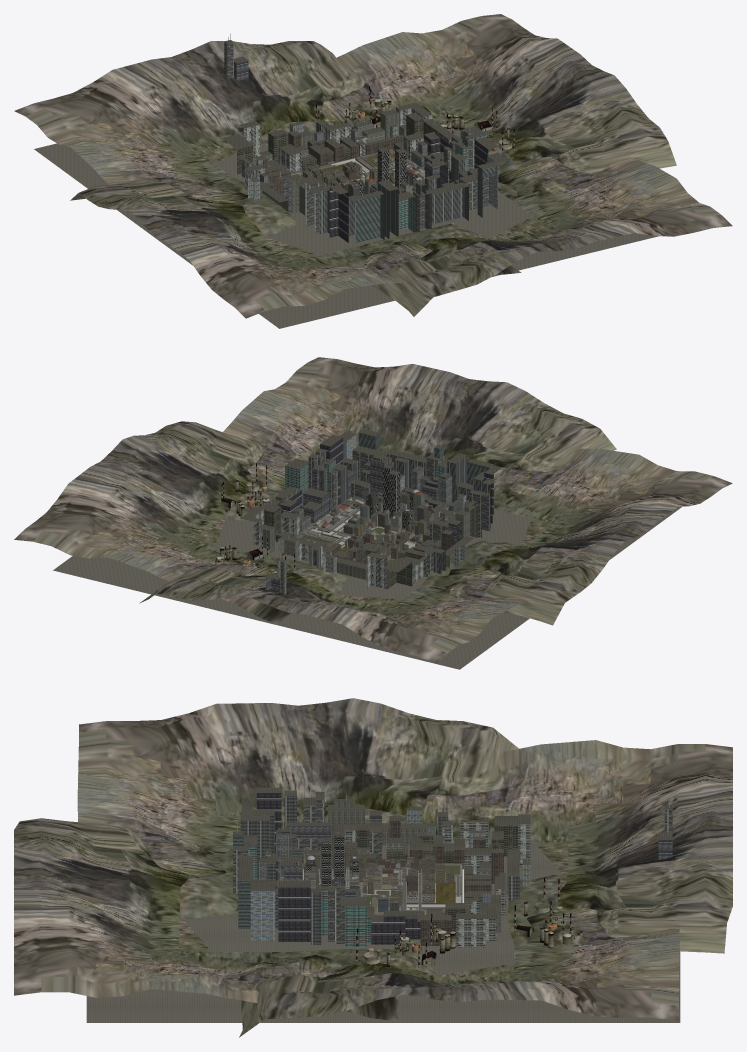
The model's file is gm_bigcity-compressed-cân bằng-compressed.glb.
The picture shows the model from 3 angles, top to bottom: view 1: azimuth 30°, elevation 25°; view 2: azimuth 150°, elevation 25°; view 3: azimuth 270°, elevation 25°; orthographic projection. The views are drawn at different scales.
Visible parts, largest first — view 1: Object_104, Object_97, Object_105, Object_86, Object_82, Object_79, Object_76, Object_80, Object_101, Object_83, Object_81, Object_77 (+3 smaller); view 2: Object_104, Object_97, Object_105, Object_86, Object_82, Object_79, Object_85, Object_101, Object_77, Object_35, Object_76, Object_80 (+4 smaller); view 3: Object_104, Object_97, Object_105, Object_80, Object_79, Object_101, Object_86, Object_82, Object_83, Object_78, Object_81, Object_87 (+6 smaller).
Part boxes in pixels (box(x1,y1,x2,y2)): Object_104: box(14, 14, 732, 318); Object_97: box(34, 128, 658, 328); Object_105: box(222, 40, 508, 203); Object_86: box(245, 122, 477, 238); Object_82: box(224, 42, 488, 232); Object_79: box(241, 107, 432, 186); Object_76: box(260, 137, 495, 242); Object_80: box(329, 135, 488, 242); Object_101: box(316, 86, 514, 153); Object_83: box(262, 121, 434, 196); Object_81: box(237, 115, 423, 190); Object_77: box(260, 113, 398, 215); Object_104: box(14, 357, 732, 663); Object_97: box(53, 496, 681, 669); Object_105: box(240, 429, 501, 579); Object_86: box(309, 450, 490, 574); Object_82: box(275, 450, 490, 594); Object_79: box(253, 509, 448, 589); Object_85: box(265, 458, 461, 591); Object_101: box(215, 463, 295, 573); Object_77: box(262, 502, 478, 579); Object_35: box(365, 466, 421, 530); Object_76: box(329, 432, 489, 574); Object_80: box(279, 437, 493, 523); Object_104: box(14, 698, 732, 1037); Object_97: box(86, 842, 680, 1022); Object_105: box(233, 787, 672, 921); Object_80: box(256, 793, 420, 944); Object_79: box(343, 822, 530, 947); Object_101: box(356, 878, 582, 967); Object_86: box(240, 796, 519, 944); Object_82: box(233, 800, 672, 943); Object_83: box(389, 821, 503, 945); Object_78: box(250, 845, 371, 947); Object_81: box(334, 825, 517, 938); Object_87: box(250, 877, 283, 940).
Size of the model in its own units: 2989 by 434 by 3062.
99 materials, 97 textured.
